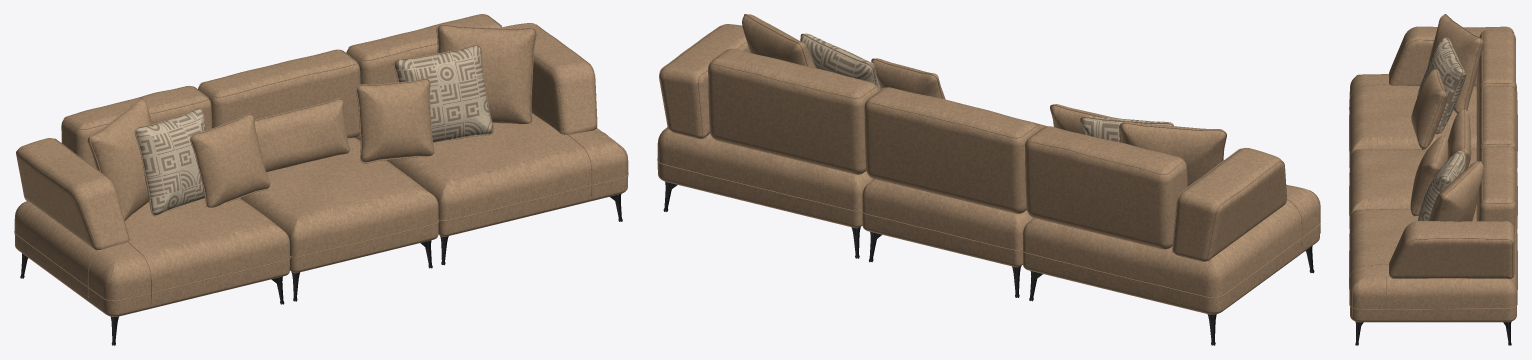
File: straight.glb
3 renders of one model, left to right at view 1: azimuth 30°, elevation 25°; view 2: azimuth 150°, elevation 25°; view 3: azimuth 270°, elevation 25°, orthographic. The views are drawn at different scales.
Visible parts, largest first — view 1: fabric (×2), pillows (×3), legs; view 2: fabric (×2), pillows (×3), legs; view 3: fabric (×2), pillows (×3), legs.
Boxes of the visible parts, x1=… form: fabric (×2): x1=14, y1=14, x2=628, y2=316; pillows (×3): x1=87, y1=24, x2=536, y2=220; legs: x1=20, y1=194, x2=622, y2=345; fabric (×2): x1=657, y1=24, x2=1320, y2=314; pillows (×3): x1=742, y1=14, x2=1226, y2=186; legs: x1=663, y1=181, x2=1314, y2=345; fabric (×2): x1=1349, y1=26, x2=1517, y2=322; pillows (×3): x1=1410, y1=14, x2=1483, y2=221; legs: x1=1355, y1=321, x2=1511, y2=345.
Bounding box in the file's own units: 3 × 0.9262 × 1.
4 materials, 3 textured.
